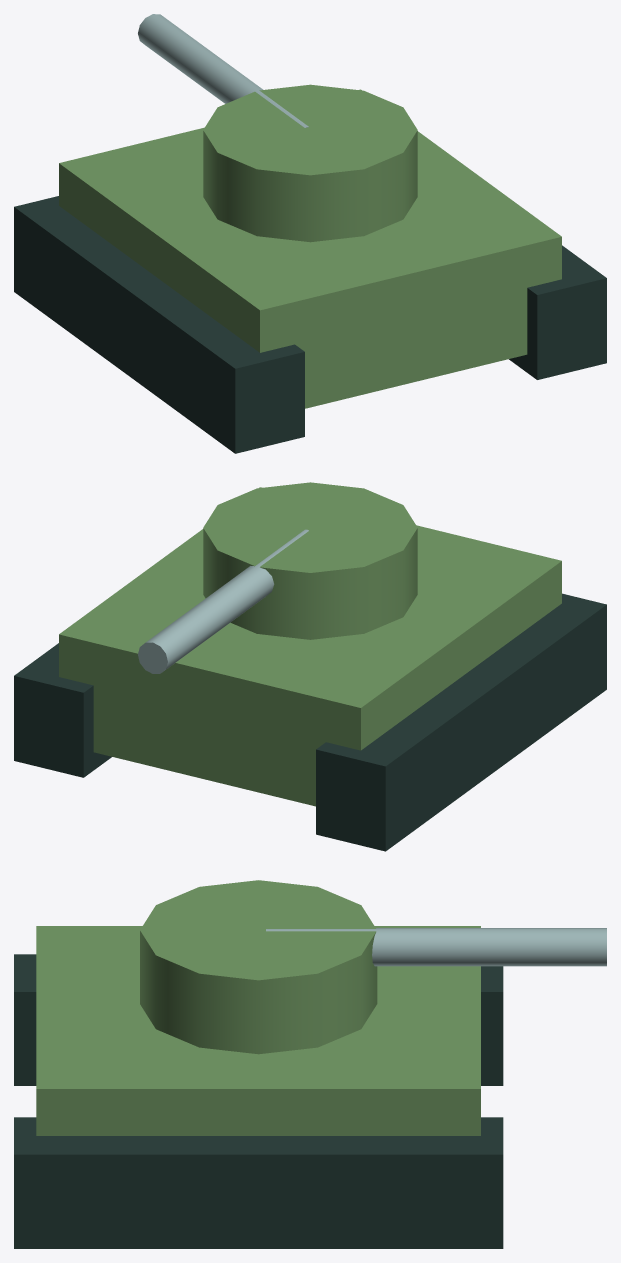
Rendered from tank.glb.
The picture shows the model from 3 angles, top to bottom: view 1: azimuth 30°, elevation 25°; view 2: azimuth 150°, elevation 25°; view 3: azimuth 270°, elevation 25°; orthographic projection. The views are drawn at different scales.
Visible parts, largest first — view 1: tank; view 2: tank; view 3: tank.
Boxes of the visible parts, left/top/right/bottom form: tank: left=14, top=14, right=606, bottom=453; tank: left=14, top=482, right=606, bottom=851; tank: left=14, top=880, right=606, bottom=1248.
Size of the model in its own units: 3.2 by 1.63 by 4.
